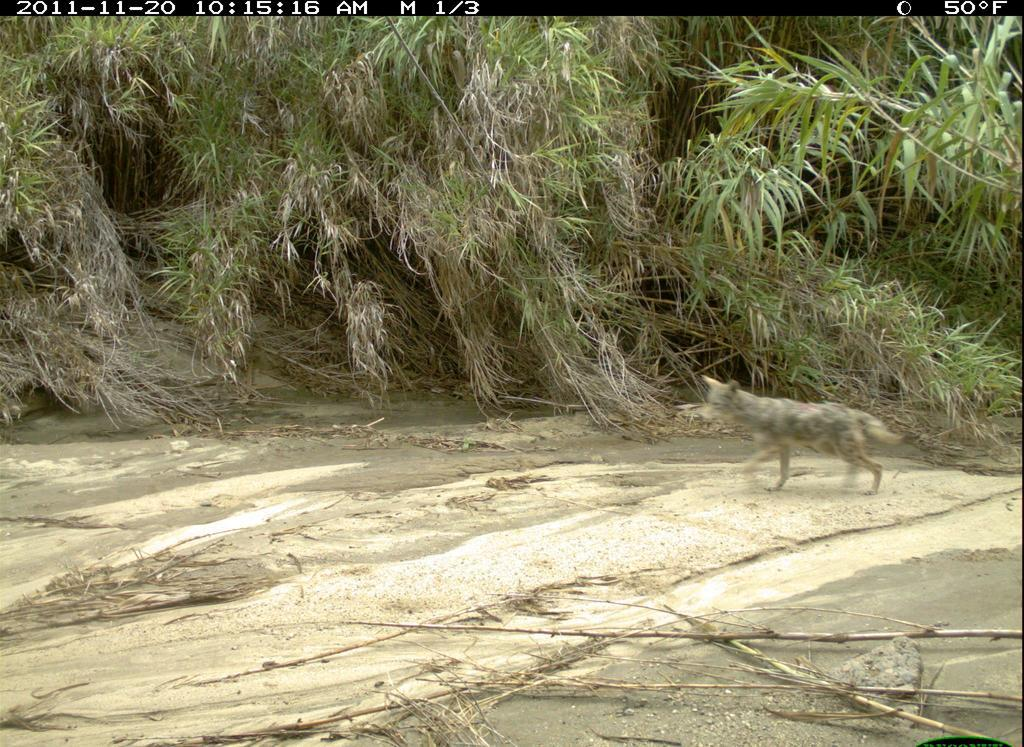coyote: (685, 355, 894, 509)
